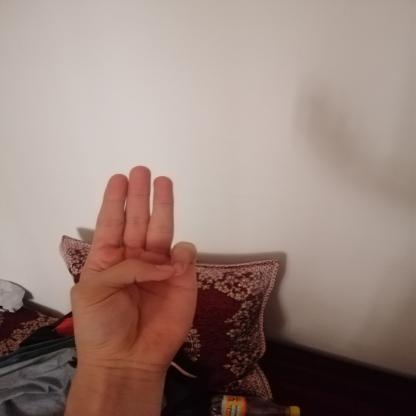THA: (53, 152, 217, 382)
